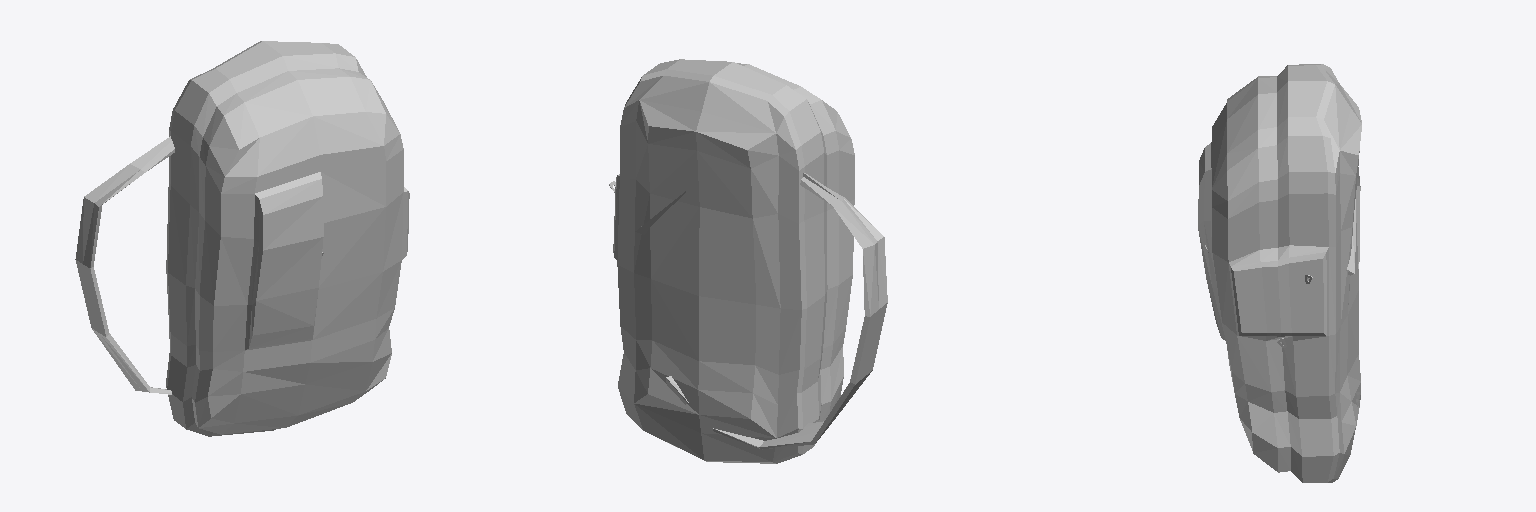
File: backpack.obj
3 renders of one model, left to right at view 1: azimuth 30°, elevation 25°; view 2: azimuth 150°, elevation 25°; view 3: azimuth 270°, elevation 25°, orthographic.
Visible parts, largest first — view 1: backpack; view 2: backpack; view 3: backpack.
Boxes of the visible parts, x1,y1,x2,y2 form: backpack: [75, 41, 409, 436]; backpack: [609, 59, 887, 463]; backpack: [1198, 64, 1361, 482].
Bounding box in the file's own units: 21.66 × 27.56 × 10.82.